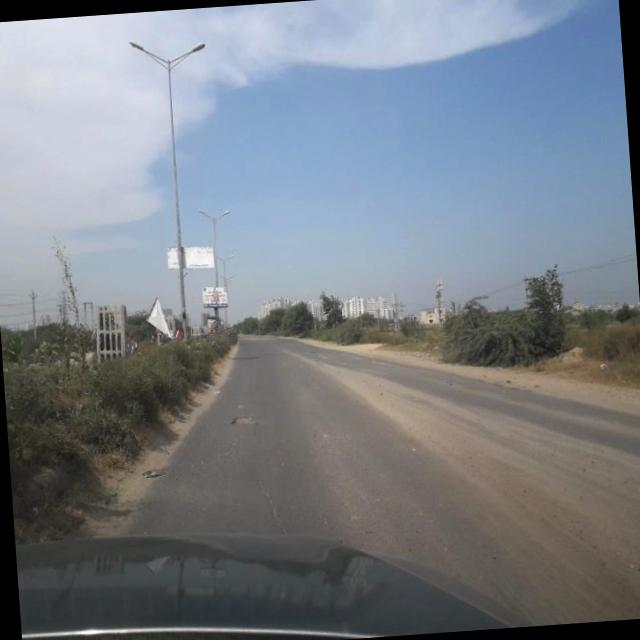crack: (252, 450, 292, 533)
pothole: (227, 408, 261, 431)
